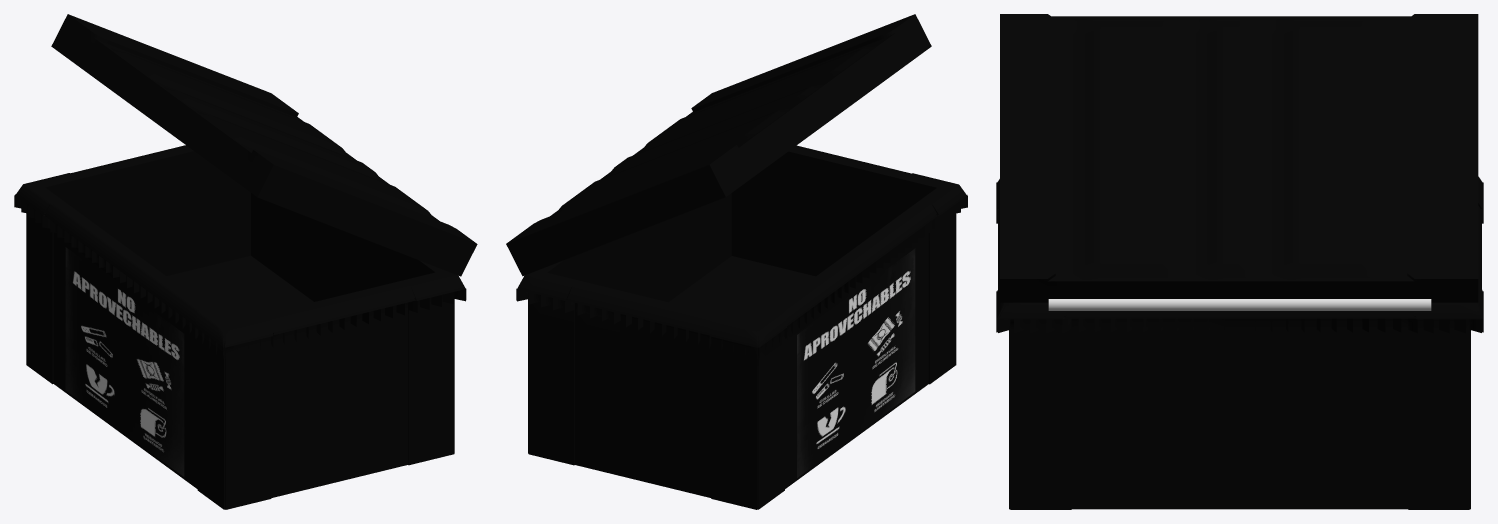
File: tachoNegro.fbx
3 views of the same model, side by side, from view 1: azimuth 30°, elevation 25°; view 2: azimuth 150°, elevation 25°; view 3: azimuth 270°, elevation 25° (orthographic). The views are drawn at different scales.
Visible parts, largest first — view 1: Cubo, Cubo_1, Plano; view 2: Cubo, Cubo_1, Plano; view 3: Cubo_1, Cubo, Cilindro.
Part boxes in pixels (<box>): Cubo: <box>14,145,466,509</box>; Cubo_1: <box>51,14,477,276</box>; Plano: <box>65,247,184,476</box>; Cubo: <box>516,145,967,509</box>; Cubo_1: <box>506,14,931,276</box>; Plano: <box>797,248,915,477</box>; Cubo_1: <box>1000,14,1478,302</box>; Cubo: <box>996,176,1483,509</box>; Cilindro: <box>1048,299,1431,310</box>.
Size of the model in its own units: 224 by 282 by 319.
Materials: 2 (1 with a texture image).
